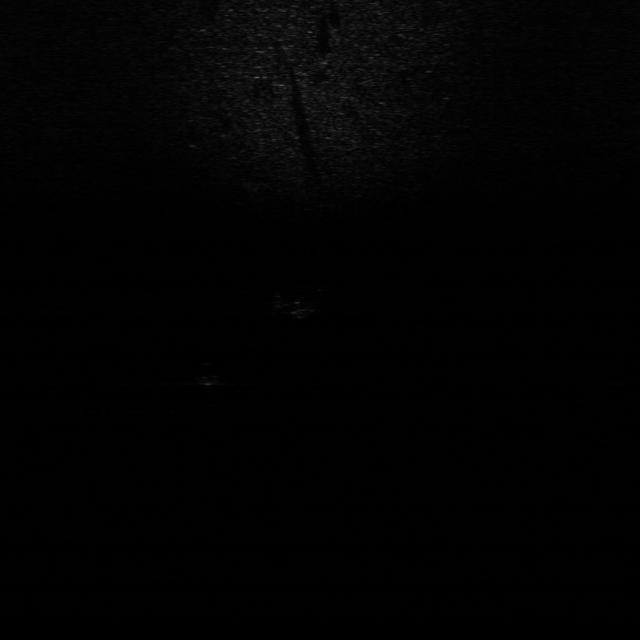ball: (186, 358, 224, 392)
human body: (274, 288, 320, 322)
